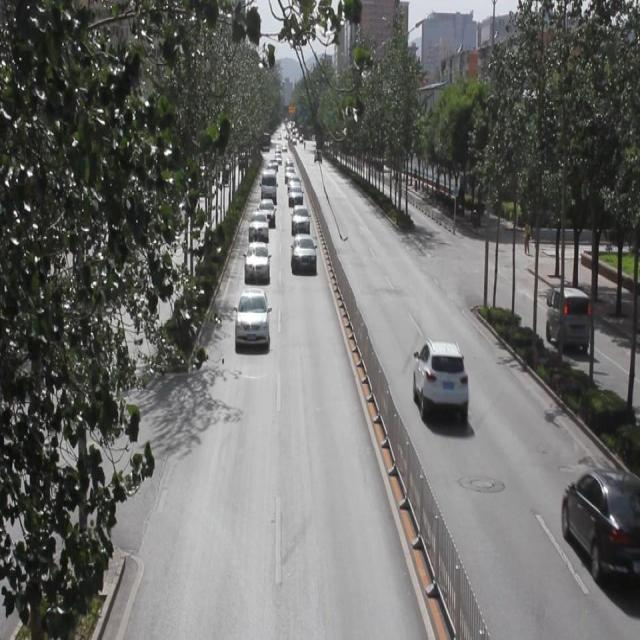car: (559, 462, 640, 580), (411, 337, 467, 417), (235, 287, 270, 345), (289, 229, 315, 272), (244, 239, 268, 280), (290, 202, 310, 235), (248, 208, 268, 240), (257, 196, 274, 225)
truck: (544, 280, 588, 349)
